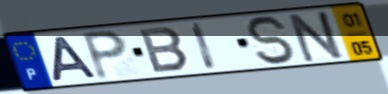A: (52, 34, 101, 83)
B: (136, 26, 193, 75)
I: (188, 21, 220, 72)
N: (287, 8, 349, 64)
P: (78, 28, 130, 82)
S: (243, 14, 301, 67)
